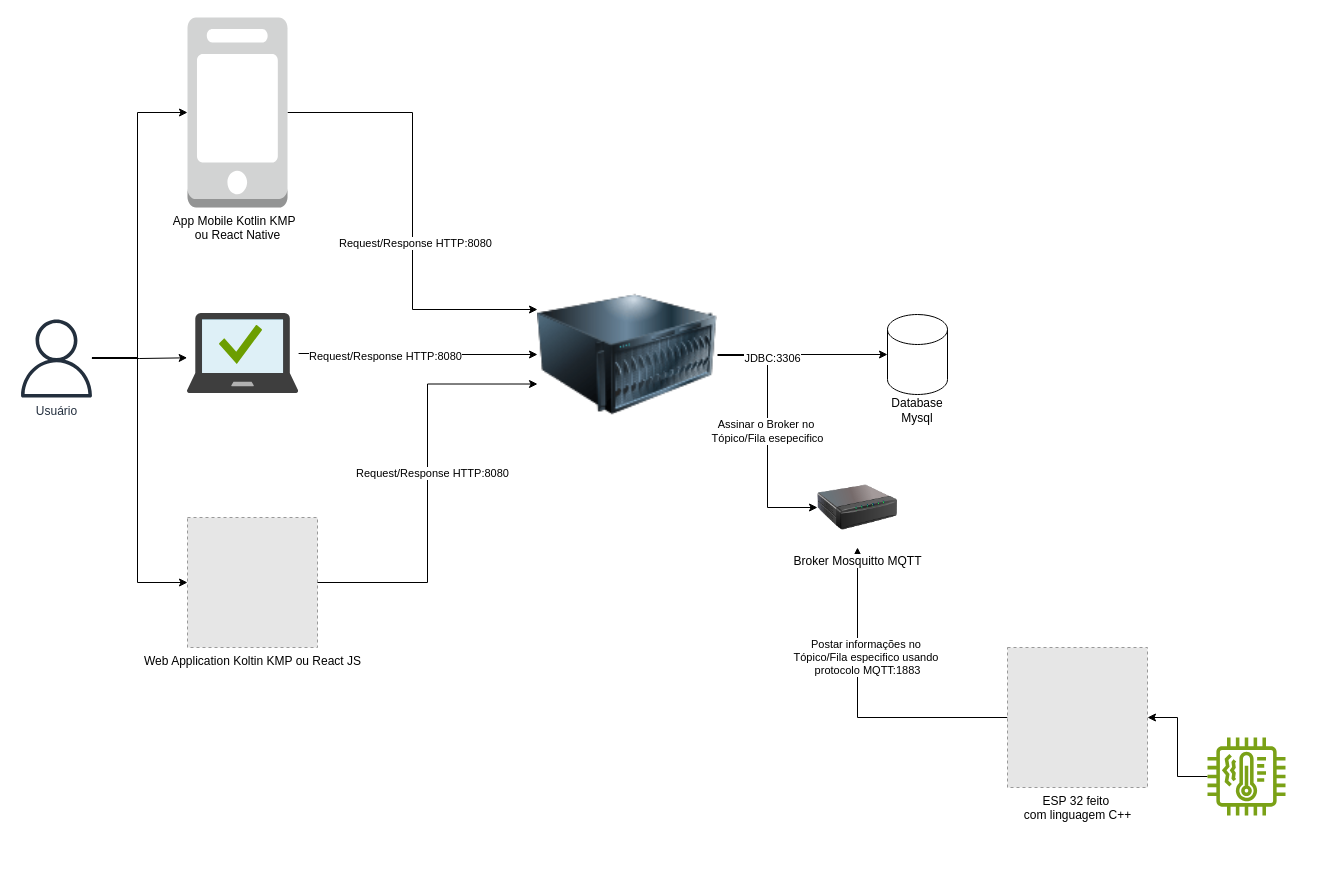
Image size: 1323x869. Some labels were removed from this diagram. Grey dashed boxes stand in for pictures. The centre of each missing label's shape, as x and y in pixels:
App Desktop Kotlin KMP ou JavaFX ou Python com Kivy: the point at 242,353
Sensor Temperatura/Umidade: the point at 1246,776
Servidor Backend Kotlin com Spring Boot: the point at 627,354
